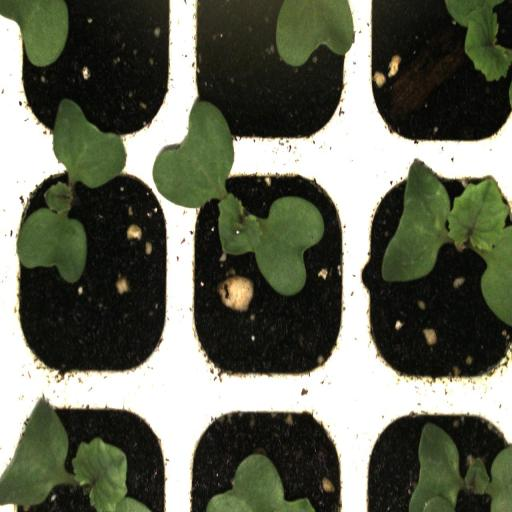Folha: (16, 99, 126, 284), (409, 423, 512, 512), (224, 0, 354, 69), (206, 452, 315, 512), (445, 0, 512, 82), (0, 0, 69, 67)
Germinacao: (178, 155, 360, 397), (0, 158, 178, 388), (360, 153, 512, 401), (2, 387, 176, 512)
